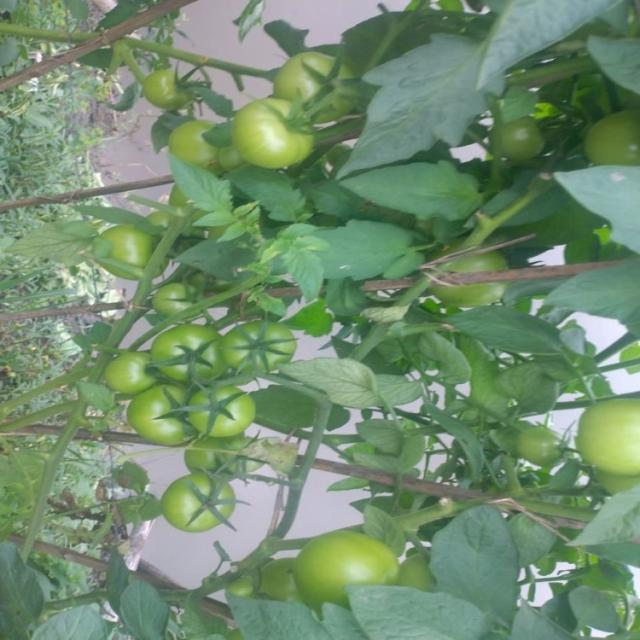tomato: (296, 522, 418, 608), (220, 311, 333, 389), (228, 97, 325, 182), (122, 382, 218, 458), (279, 41, 365, 118), (161, 464, 242, 536), (134, 321, 231, 378), (189, 381, 272, 447), (579, 394, 640, 481), (90, 341, 174, 400), (102, 213, 169, 275), (150, 288, 229, 336), (158, 116, 234, 162), (586, 113, 640, 175), (136, 67, 207, 110), (484, 116, 545, 162)
